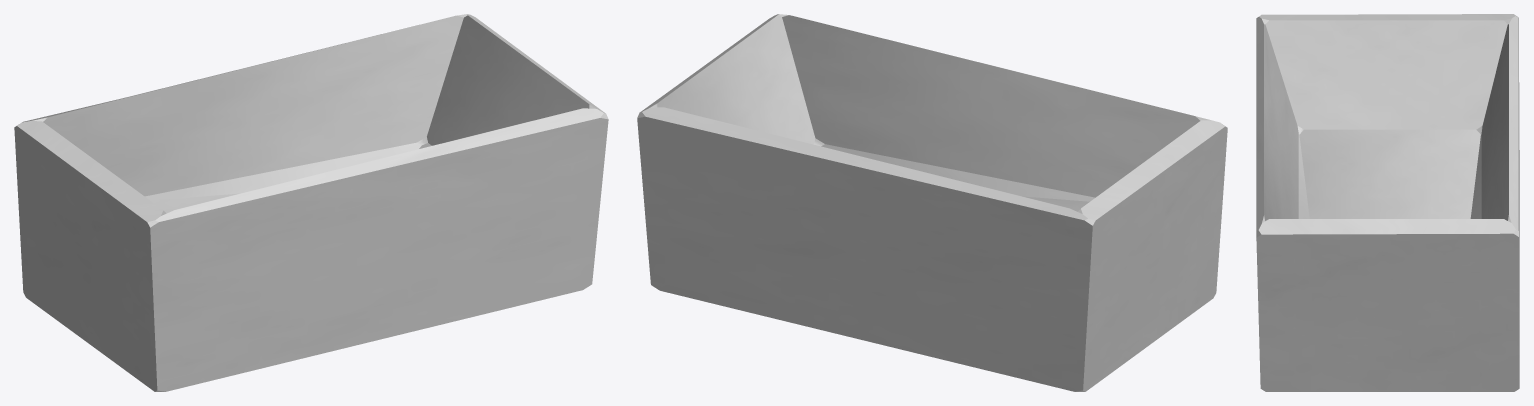
File: bath.fbx
3 views of the same model, side by side, from view 1: azimuth 30°, elevation 25°; view 2: azimuth 150°, elevation 25°; view 3: azimuth 270°, elevation 25° (orthographic). The views are drawn at different scales.
Visible parts, largest first — view 1: Cube; view 2: Cube; view 3: Cube.
Part boxes in pixels (box(x1,y1,x2,y2)): Cube: box(14, 14, 608, 391); Cube: box(637, 14, 1227, 391); Cube: box(1256, 14, 1519, 391).
Bounding box in the file's own units: 540 × 202 × 278.
2 materials, 1 textured.
